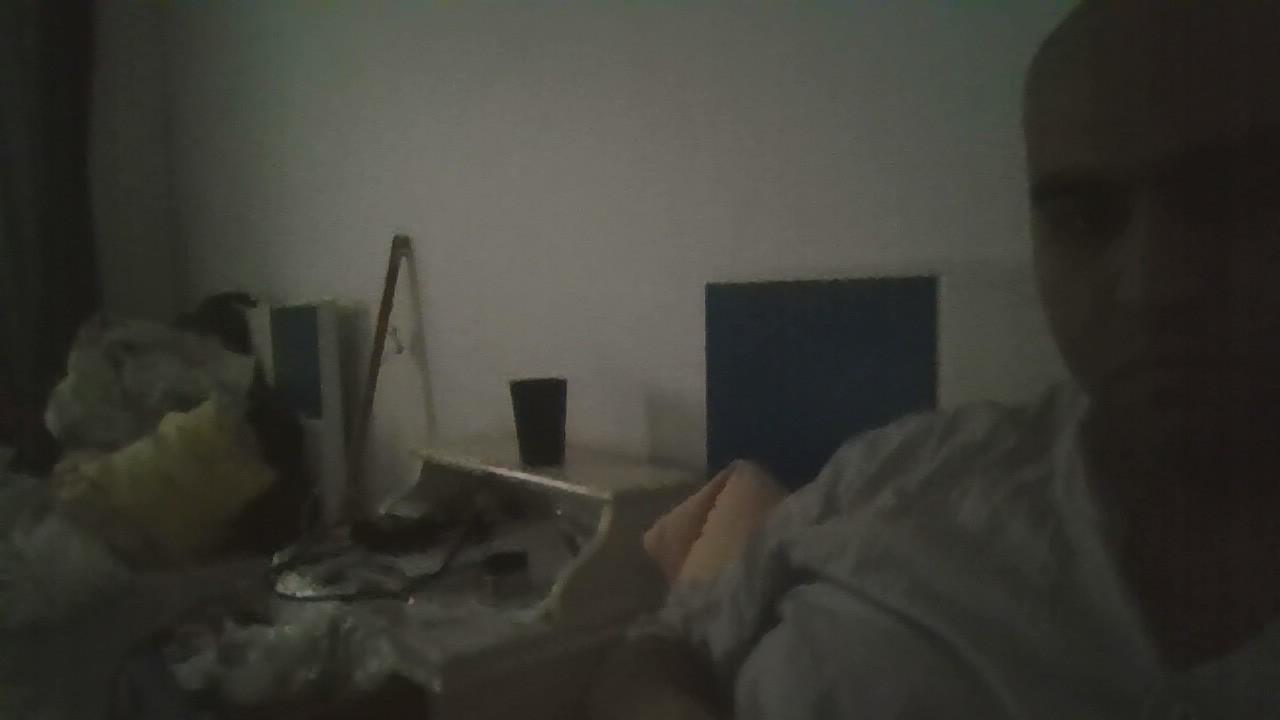cup: (509, 377, 567, 467)
